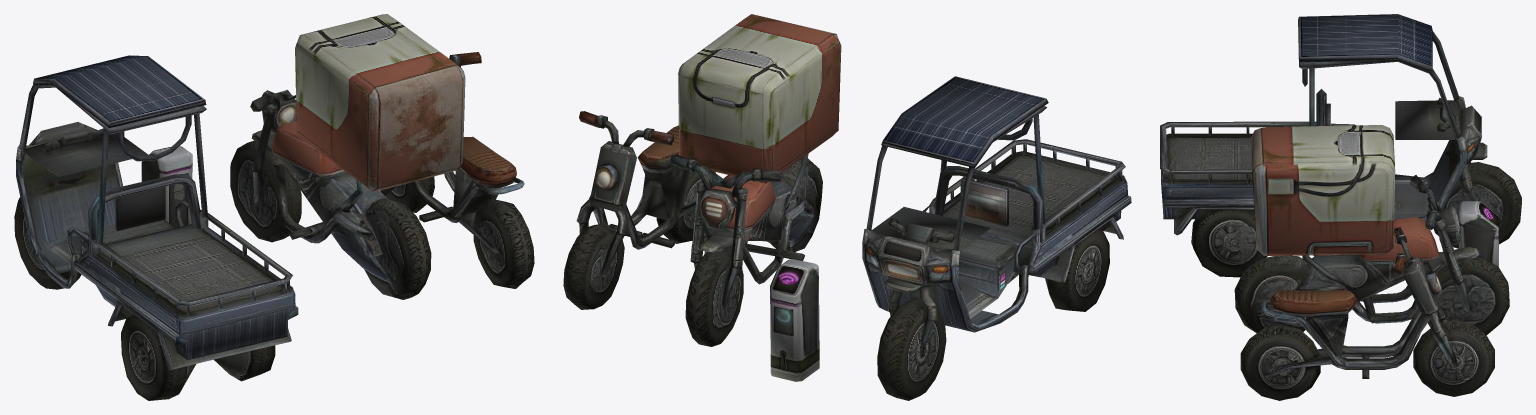
File: e_scooter.glb
3 renders of one model, left to right at view 1: azimuth 30°, elevation 25°; view 2: azimuth 150°, elevation 25°; view 3: azimuth 270°, elevation 25°, orthographic. The views are drawn at different scales.
Parts seen in each view (by area): view 1: Body; view 2: Body; view 3: Body.
Boxes of the visible parts, <box> form: Body: <box>14,14,534,400</box>; Body: <box>563,14,1131,400</box>; Body: <box>1160,14,1521,400</box>.
Bounding box in the file's own units: 1.9 × 1.04 × 1.55.
Materials: 1 (1 with a texture image).
